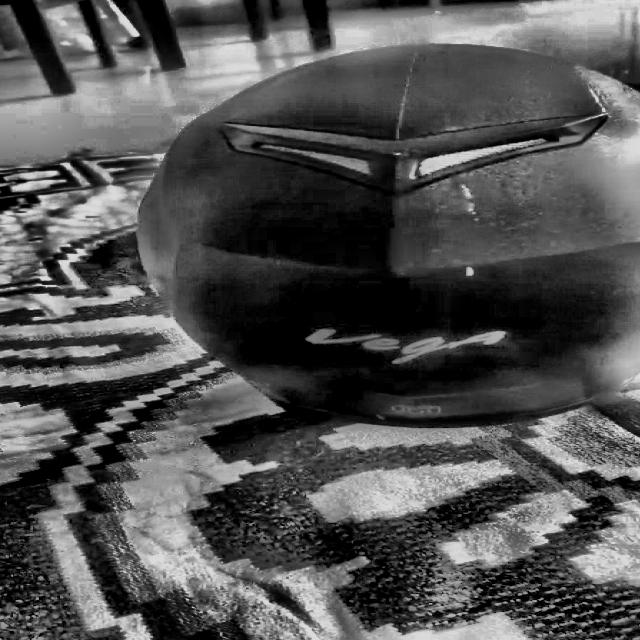Helmet: (102, 37, 640, 445)
